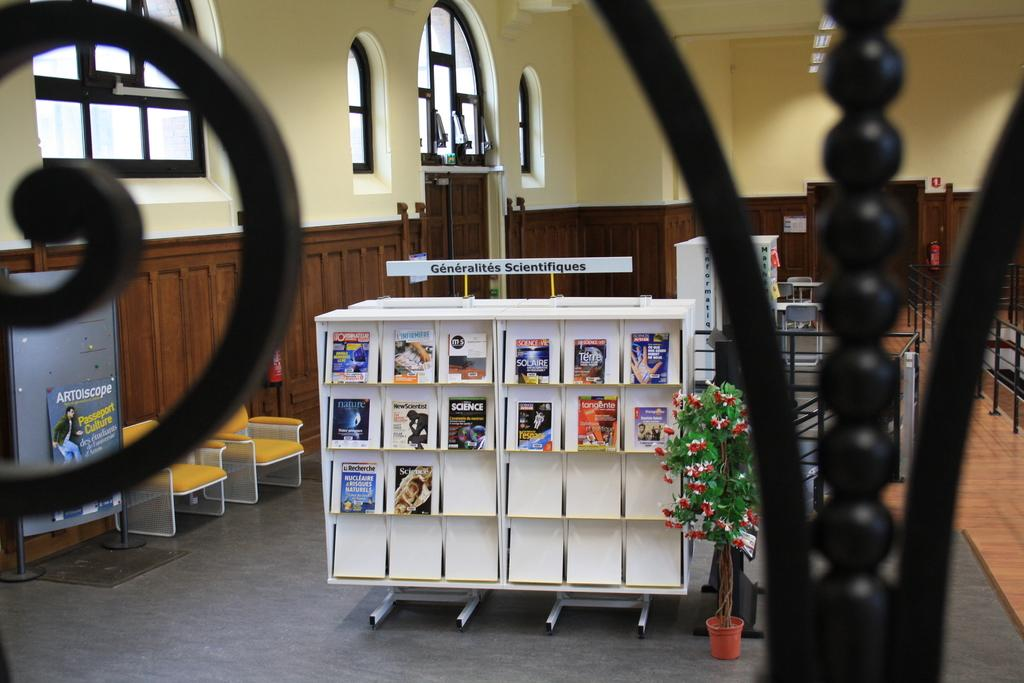Book: (326, 394, 377, 448), (392, 327, 435, 383), (577, 394, 618, 451), (447, 396, 488, 450), (390, 399, 434, 449), (446, 332, 488, 383), (629, 332, 669, 384), (331, 330, 370, 383), (339, 461, 378, 513), (393, 464, 433, 514), (517, 400, 553, 451), (514, 337, 551, 384), (573, 338, 607, 383), (633, 405, 667, 449)
Chair: (120, 419, 227, 536), (194, 403, 304, 503)
